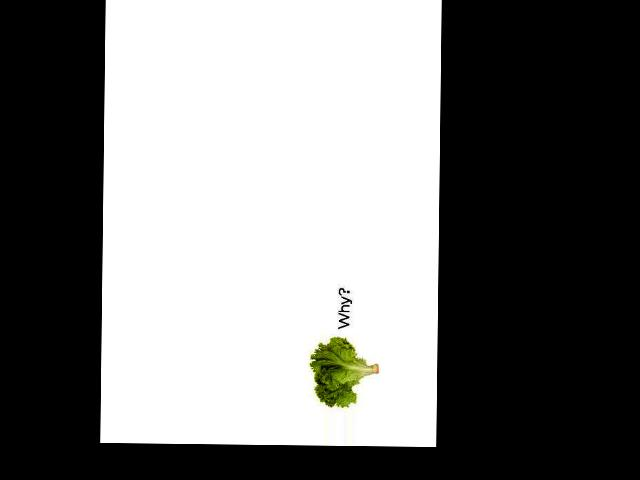lettuce: (303, 296, 385, 411)
